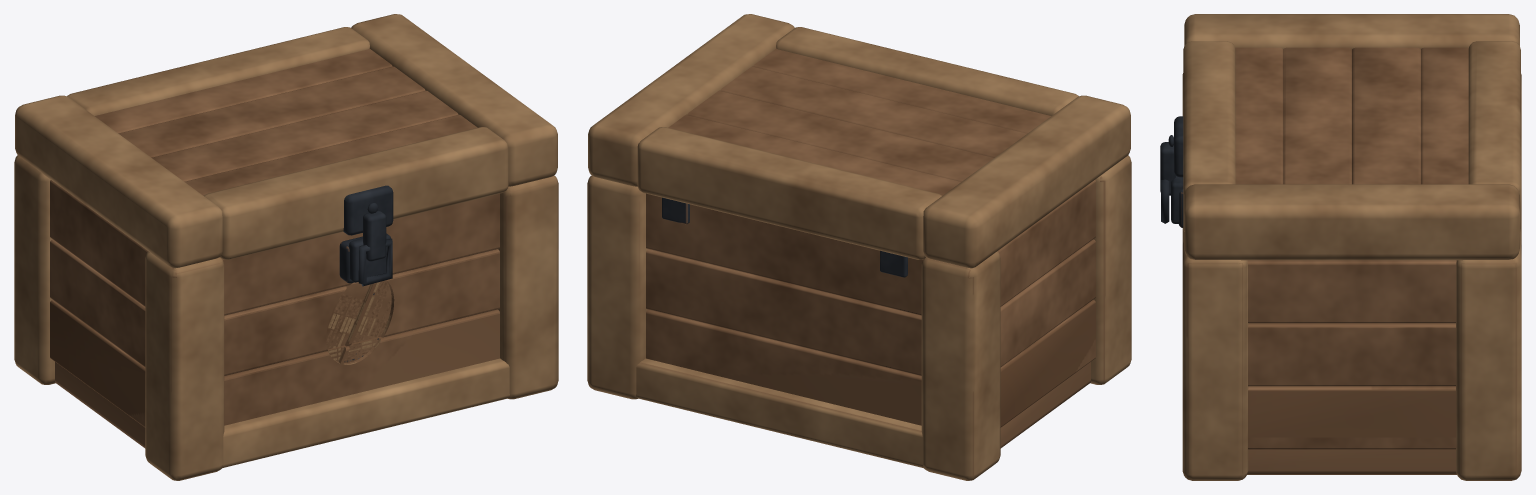
Rendered from T1_Wood.fbx.
The picture shows the model from 3 angles, left to right: view 1: azimuth 30°, elevation 25°; view 2: azimuth 150°, elevation 25°; view 3: azimuth 270°, elevation 25°; orthographic projection. The views are drawn at different scales.
Visible parts, largest first — view 1: Body, Lid; view 2: Body, Lid; view 3: Lid, Body.
Boxes of the visible parts, x1,y1,x2,y2 form: Body: (14, 155, 558, 480); Lid: (15, 14, 557, 268); Body: (587, 155, 1131, 480); Lid: (588, 14, 1130, 268); Lid: (1160, 14, 1520, 260); Body: (1161, 73, 1521, 480).
Size of the model in its own units: 0.966 by 0.6255 by 0.7425.
Materials: 1 (1 with a texture image).
